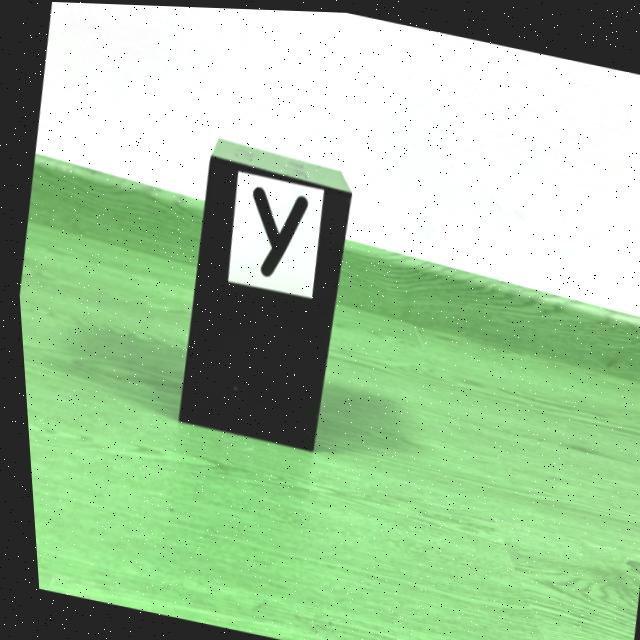Y: (250, 185, 305, 274)
